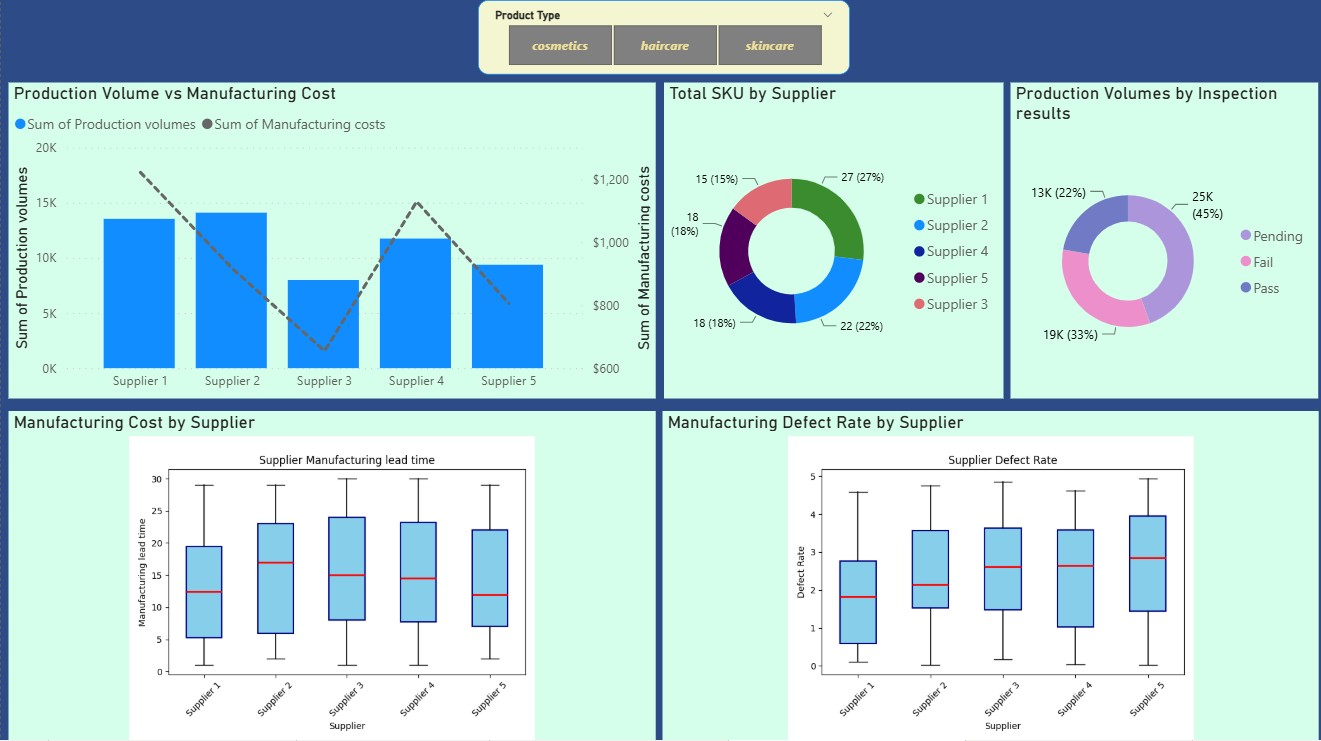

The dashboard page shown, as its layout file describes it:
{"tool":"powerbi","page":{"name":"Supplier Performance","canvas":[1280,720],"ordinal":4},"visuals":[{"type":"slicer","fields":{"Values":["supply_chain_data.Product type"]},"box":[460.3,0,359.4,72.2],"z":2000},{"type":"lineClusteredColumnComboChart","title":"Production Volume vs Manufacturing Cost","fields":{"Category":["supply_chain_data.Supplier name"],"Y2":["Sum(supply_chain_data.Manufacturing costs)"],"Y":["Sum(supply_chain_data.Production volumes)"]},"box":[7.4,79.7,625.2,305.6],"z":3000},{"type":"donutChart","title":"Total SKU by Supplier","fields":{"Y":["CountNonNull(supply_chain_data.SKU)"],"Category":["supply_chain_data.Supplier name"]},"box":[640,79.7,327.9,305.6],"z":4000},{"type":"donutChart","title":"Production Volumes by Inspection results","fields":{"Category":["supply_chain_data.Inspection results"],"Y":["Sum(supply_chain_data.Production volumes)"]},"box":[975.3,79.7,297.3,305.6],"z":5000},{"type":"pythonVisual","title":"Manufacturing Cost by Supplier","fields":{"Values":["supply_chain_data.Supplier name","supply_chain_data.Manufacturing lead time"]},"box":[7.2,397.5,625.1,323.4],"z":6000},{"type":"pythonVisual","title":"Manufacturing Defect Rate by Supplier","fields":{"Values":["supply_chain_data.Supplier name","supply_chain_data.Defect rates"]},"box":[639.6,397.5,634.2,323.4],"z":7000}]}

Visuals, with their boxes in screenshot pixels (x1, y1, x2, y2), scaled from the page's 1280x720 canvas onto the 1321x741 screenshot:
slicer - supply_chain_data.Product type: x1=475, y1=0, x2=846, y2=74
"Production Volume vs Manufacturing Cost" lineClusteredColumnComboChart: x1=8, y1=82, x2=653, y2=397
"Total SKU by Supplier" donutChart: x1=660, y1=82, x2=999, y2=397
"Production Volumes by Inspection results" donutChart: x1=1007, y1=82, x2=1313, y2=397
"Manufacturing Cost by Supplier" pythonVisual: x1=7, y1=409, x2=653, y2=740
"Manufacturing Defect Rate by Supplier" pythonVisual: x1=660, y1=409, x2=1315, y2=740
